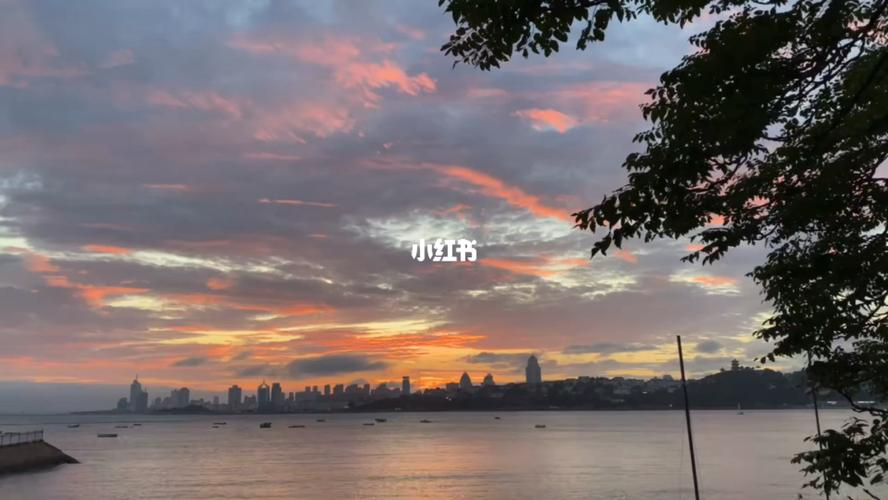sea_river: (44, 221, 755, 345)
sky_cloud: (0, 19, 711, 202)
